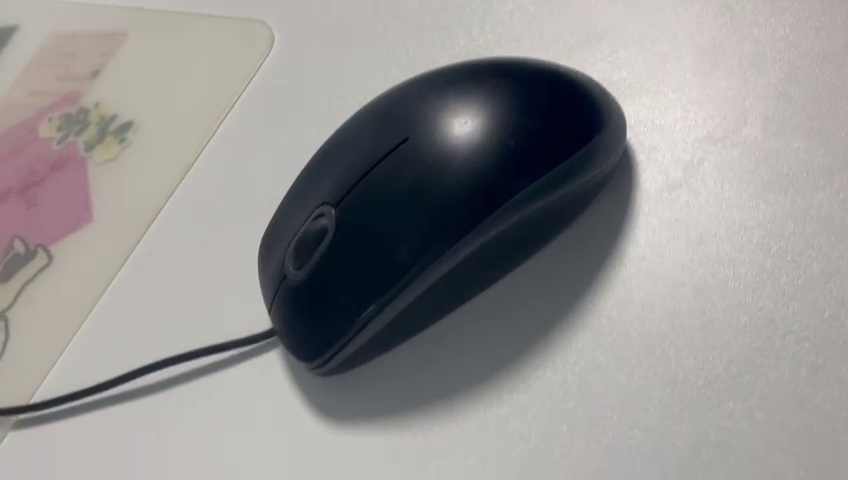objeto: (245, 35, 627, 359)
